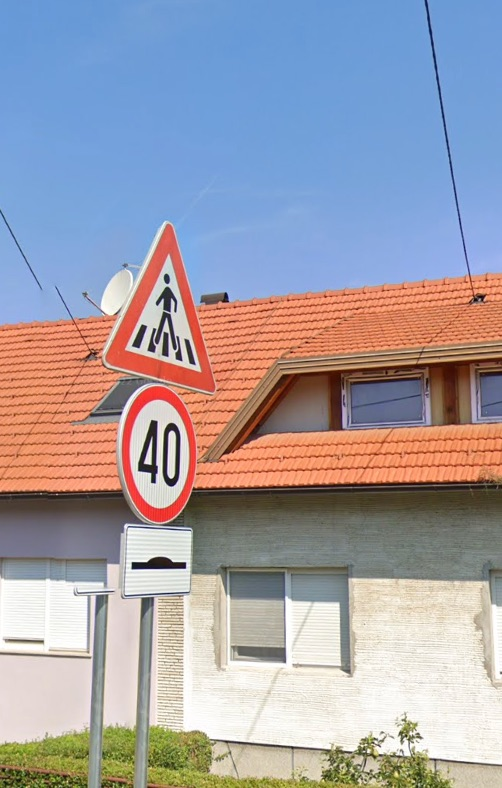Ograničenje brzine 40: (117, 382, 197, 526)
Približavanje pješačkom prijelazu: (101, 221, 217, 395)
